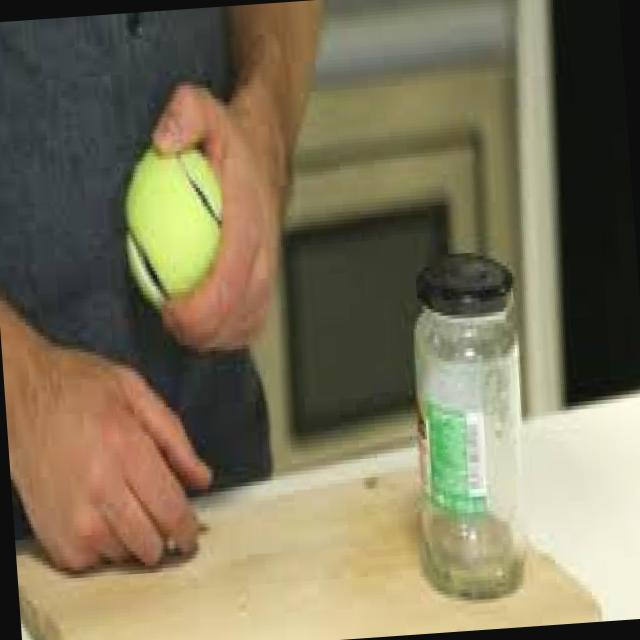Tennis Ball: (120, 138, 230, 312)
